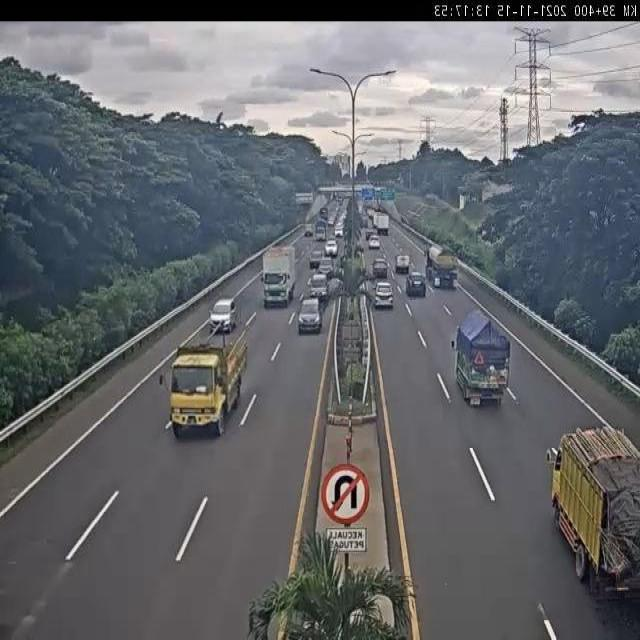Car: (207, 296, 240, 336), (295, 294, 324, 336), (374, 281, 394, 310), (406, 272, 426, 297), (372, 257, 388, 279), (318, 258, 334, 280), (310, 249, 324, 269), (324, 239, 338, 257), (368, 235, 380, 250), (334, 224, 344, 238), (304, 223, 314, 237), (365, 228, 374, 240)
Truck: (546, 428, 638, 584), (165, 328, 255, 429), (452, 311, 514, 402), (256, 240, 303, 306), (425, 245, 457, 289), (372, 212, 390, 236), (395, 254, 411, 274), (314, 220, 326, 241)
